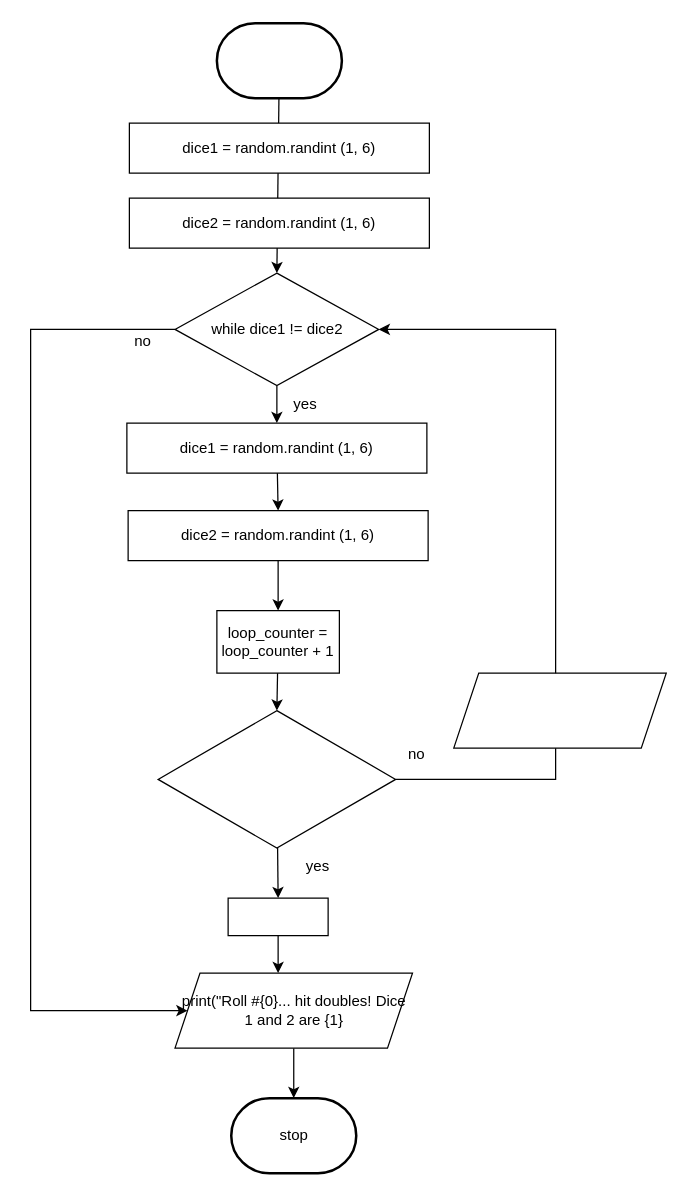
The diagram is 689 pixels wide and 1195 high, and some of its shapes have lost their labels. The shapes that lost their labels are listed below. From the top down, each one's centre as x and y in pixels, then its label:
pixel 278 60: Start
pixel 559 710: print"Roll #{0}... Dice 1 rolled a {1} and dice 2 rolled a {2}!")
pixel 276 778: if dice_1 == dice2:
pixel 277 916: break
